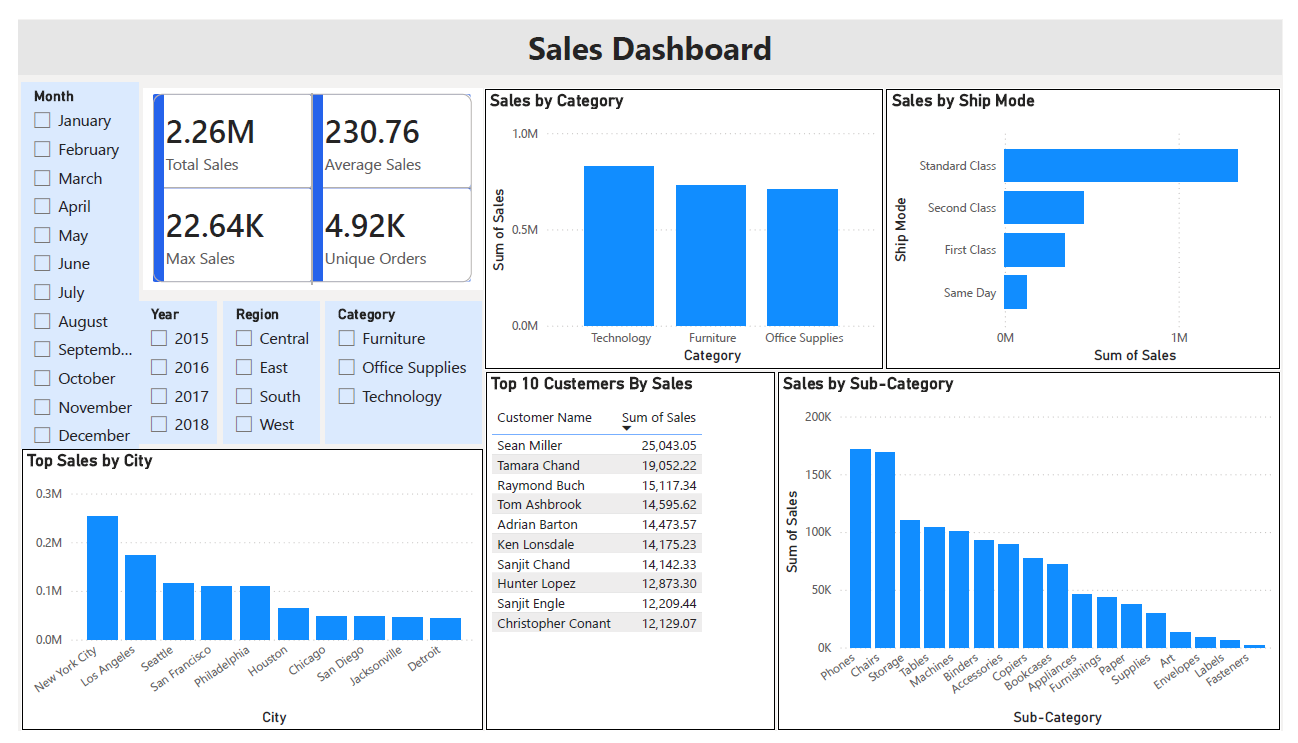

This screenshot's page, from the dashboard's own definition file:
{"tool":"powerbi","page":{"name":"Sales Overview","canvas":[1280,720],"ordinal":0},"visuals":[{"type":"columnChart","title":"Sales by Sub-Category","fields":{"Category":["Train.Sub-Category"],"Y":["Sum(Train.Sales)"]},"box":[768.6,356.7,509.9,362.9],"z":0},{"type":"slicer","fields":{"Values":["Train.Order Date.Variation.Date Hierarchy.Year"]},"box":[121,284.8,79.4,144.4],"z":1000},{"type":"slicer","fields":{"Values":["Train.Order Date.Variation.Date Hierarchy.Month"]},"box":[2.5,63.7,118.6,377.4],"z":2000},{"type":"clusteredColumnChart","title":"Sales by Category","fields":{"Category":["Train.Category"],"Y":["Sum(Train.Sales)"]},"box":[471.6,70.4,404.2,283.3],"z":3000},{"type":"tableEx","title":"Top 10 Custemers By Sales","fields":{"Values":["Train.Customer Name","Sum(Train.Sales)"]},"box":[472.9,357.1,292.9,362.9],"z":4000},{"type":"clusteredBarChart","title":"Sales by Ship Mode","fields":{"Category":["Train.Ship Mode"],"Y":["Sum(Train.Sales)"]},"box":[878.9,70.4,399.6,283.3],"z":5000},{"type":"cardVisual","fields":{"Data":["Sum(Train.Sales)1","Avg(Train.Sales)","Max(Train.Sales)","Train.Unique Orders"]},"box":[125.6,70.4,344.5,202.1],"z":6000},{"type":"lineStackedColumnComboChart","title":"Top Sales by City","fields":{"Category":["Train.City"],"Y":["Sum(Train.Sales)"]},"box":[3.1,434.8,467,284.8],"z":7000},{"type":"slicer","fields":{"Values":["Train.Region"]},"box":[206.7,284.8,98,143.9],"z":8000},{"type":"slicer","fields":{"Values":["Train.Category"]},"box":[310.8,284.8,157.7,143.9],"z":9000},{"type":"textbox","box":[0,1.3,1278.7,54.8],"z":10000}]}

Visuals, with their boxes in screenshot pixels (x1, y1, x2, y2), scaled from the page's 1280x720 canvas onto the 1298x743 screenshot:
"Sales by Sub-Category" columnChart: box(779, 368, 1296, 742)
slicer - Train.Order Date.Variation.Date Hierarchy.Year: box(123, 294, 203, 443)
slicer - Train.Order Date.Variation.Date Hierarchy.Month: box(3, 66, 123, 455)
"Sales by Category" clusteredColumnChart: box(478, 73, 888, 365)
"Top 10 Custemers By Sales" tableEx: box(480, 369, 777, 742)
"Sales by Ship Mode" clusteredBarChart: box(891, 73, 1296, 365)
cardVisual - Sum(Train.Sales)1 x Avg(Train.Sales): box(127, 73, 477, 281)
"Top Sales by City" lineStackedColumnComboChart: box(3, 449, 477, 742)
slicer - Train.Region: box(210, 294, 309, 442)
slicer - Train.Category: box(315, 294, 475, 442)
textbox: box(0, 1, 1297, 58)
